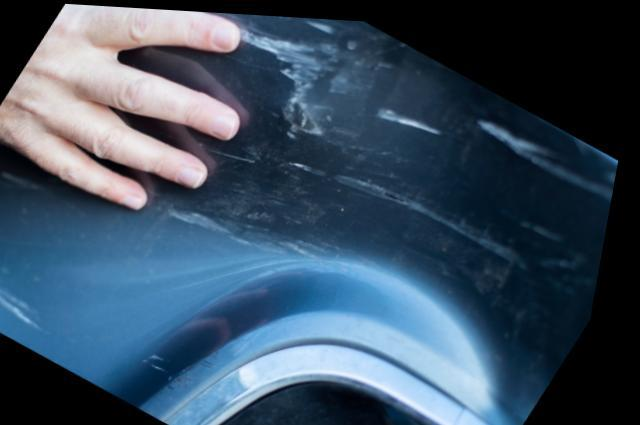dent: (203, 29, 621, 386)
scratch: (243, 18, 337, 86), (0, 277, 65, 336)
